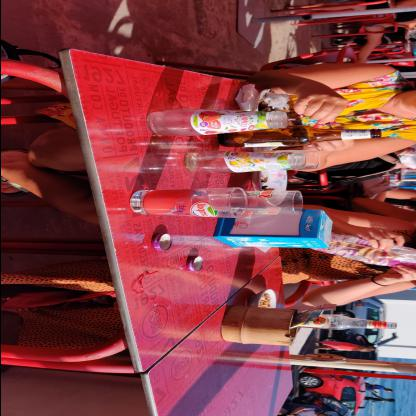cam: (143, 108, 289, 136), (216, 126, 383, 148), (182, 150, 306, 174), (298, 313, 396, 330)
metal: (150, 233, 172, 251), (185, 256, 203, 272)
plastik: (288, 304, 336, 328), (129, 270, 158, 294)
